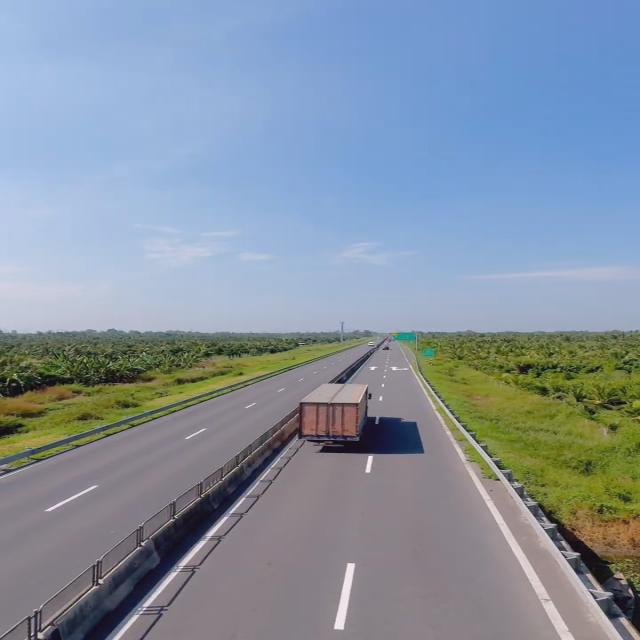truck: (300, 382, 370, 452)
